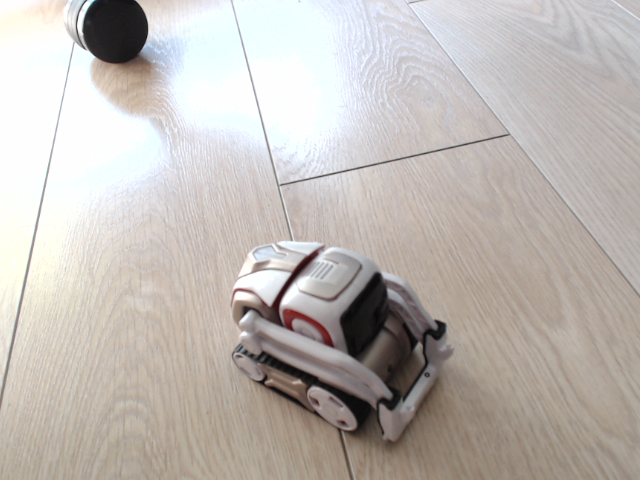cozmo: (228, 240, 455, 445)
